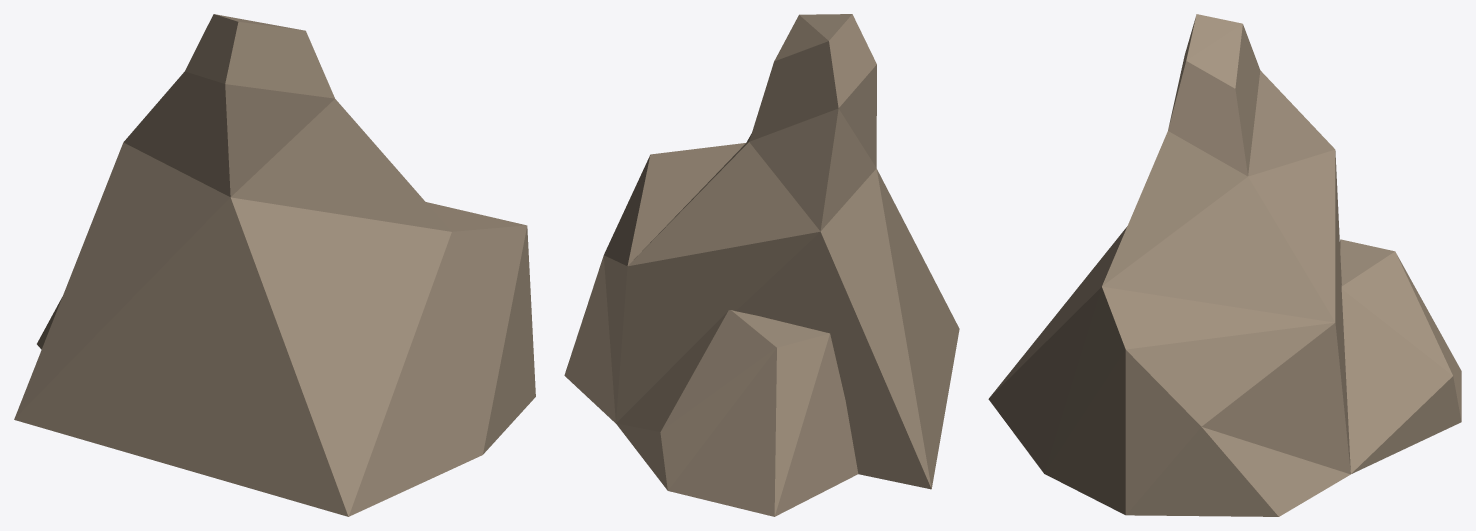
File: Pedras07.fbx
3 renders of one model, left to right at view 1: azimuth 30°, elevation 25°; view 2: azimuth 150°, elevation 25°; view 3: azimuth 270°, elevation 25°, orthographic. The views are drawn at different scales.
Visible parts, largest first — view 1: Cube; view 2: Cube; view 3: Cube.
Boxes of the visible parts, left/top/right/bottom form: Cube: left=14, top=14, right=535, bottom=516; Cube: left=564, top=14, right=959, bottom=516; Cube: left=988, top=14, right=1461, bottom=516.
Bounding box in the file's own units: 406 × 388 × 432.
